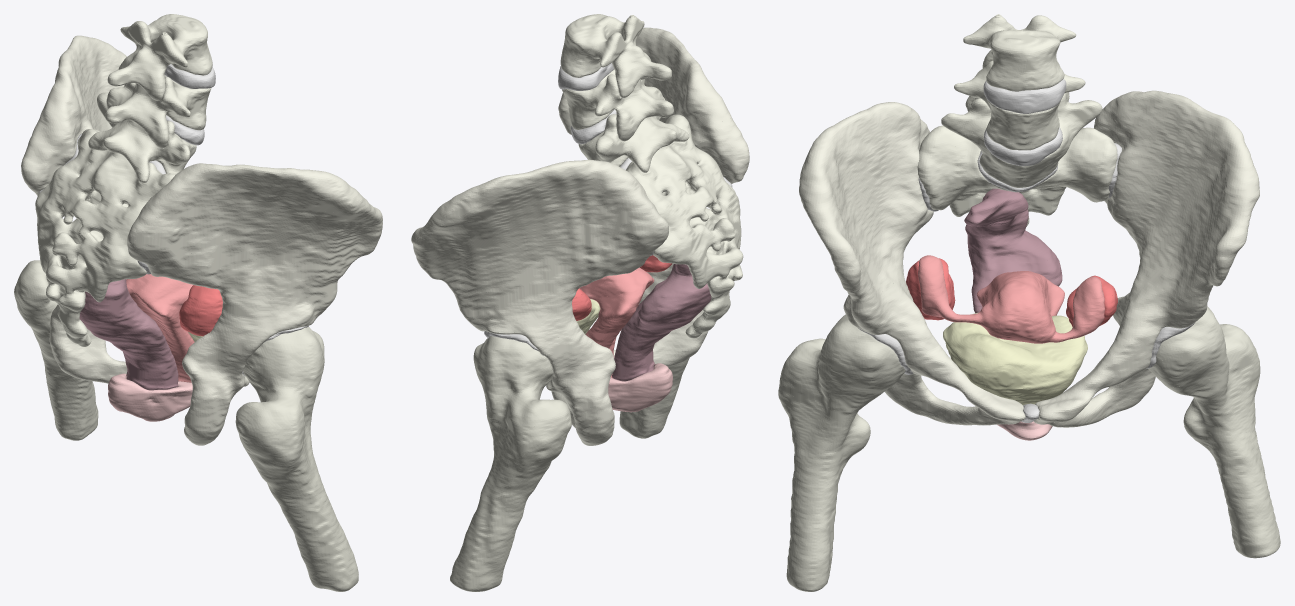
Rendered from bony_pelvis_optimized.glb.
3 renders of one model, left to right at view 1: azimuth 30°, elevation 25°; view 2: azimuth 150°, elevation 25°; view 3: azimuth 270°, elevation 25°, orthographic. The views are drawn at different scales.
Parts seen in each view (by area): view 1: pelvis_9, femur_3, sacrum_11, rectum_10, L3_5, L4_6, L5_7, uterus-and-tubes_12, vulva_13, ovaries_8, intevertebral-discs_4; view 2: pelvis_9, femur_3, sacrum_11, L3_5, rectum_10, L4_6, L5_7, uterus-and-tubes_12, vulva_13, intevertebral-discs_4, ovaries_8; view 3: pelvis_9, femur_3, sacrum_11, uterus-and-tubes_12, bladder_1, rectum_10, L3_5, L5_7, L4_6, intevertebral-discs_4, ovaries_8, cartilage-joints_2 (+1 smaller).
Boxes of the visible parts, x1,y1,x2,y2 form: pelvis_9: (21,35,382,445); femur_3: (14,260,358,591); sacrum_11: (35,129,175,346); rectum_10: (79,279,178,390); L3_5: (107,14,212,100); L4_6: (105,69,211,148); L5_7: (88,92,196,182); uterus-and-tubes_12: (126,274,194,382); vulva_13: (108,373,192,421); ovaries_8: (179,285,222,336); intevertebral-discs_4: (149,64,215,174); pelvis_9: (411,27,749,445); femur_3: (450,302,689,591); sacrum_11: (626,114,743,338); L3_5: (560,14,671,97); rectum_10: (612,264,711,381); L4_6: (562,69,673,141); L5_7: (578,97,689,172); uterus-and-tubes_12: (579,267,654,377); vulva_13: (608,356,672,412); intevertebral-discs_4: (558,63,631,169); ovaries_8: (572,255,672,320); pelvis_9: (799,90,1259,427); femur_3: (778,306,1280,591); sacrum_11: (917,125,1117,226); uterus-and-tubes_12: (918,255,1104,343); bladder_1: (943,312,1087,405); rectum_10: (964,188,1062,313); L3_5: (963,14,1076,91); L5_7: (941,93,1102,187); L4_6: (954,60,1085,150); intevertebral-discs_4: (977,79,1066,192); ovaries_8: (906,258,1117,327); cartilage-joints_2: (858,143,1195,422).
Size of the model in its own units: 0.3644 by 0.6862 by 0.5886.
